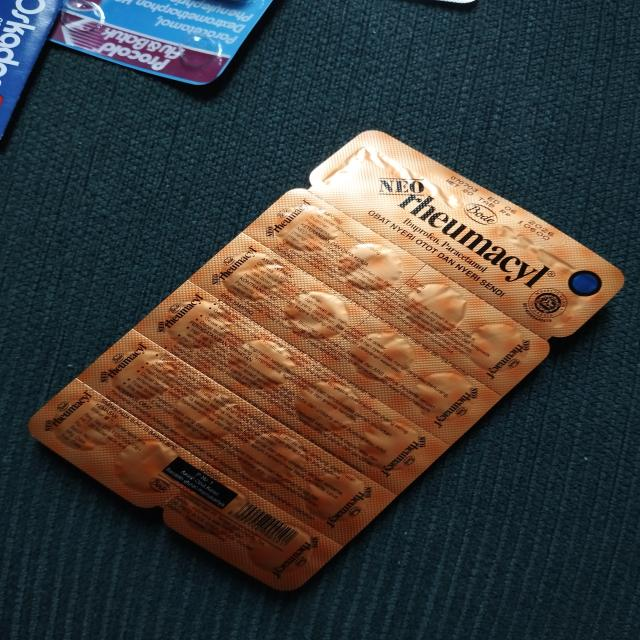B3: (27, 127, 624, 593)
